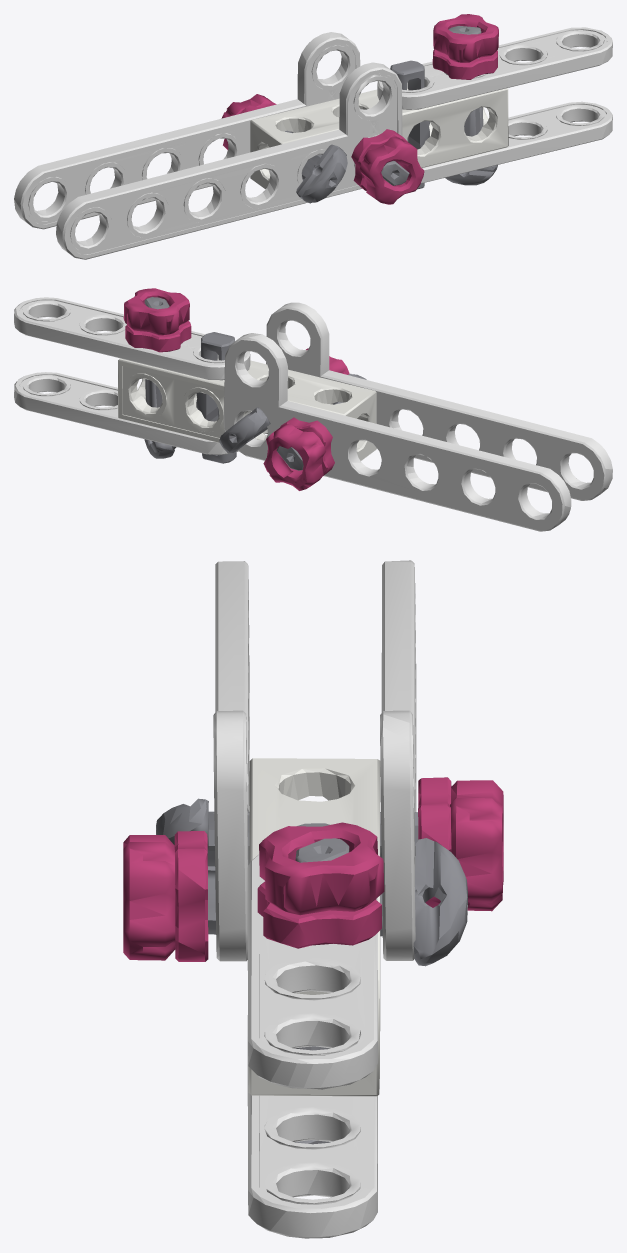
Rendered from Milestone2.fbx.
3 renders of one model, top to bottom at view 1: azimuth 30°, elevation 25°; view 2: azimuth 150°, elevation 25°; view 3: azimuth 270°, elevation 25°, orthographic. The views are drawn at different scales.
Parts seen in each view (by area): view 1: Nut PH CL BU01.00x5mm - SPN-NUT-0018 (stemfie.org).002; view 2: Nut PH CL BU01.00x5mm - SPN-NUT-0018 (stemfie.org).002; view 3: Nut PH CL BU01.00x5mm - SPN-NUT-0018 (stemfie.org).002.
Boxes of the visible parts, x1,y1,x2,y2 form: Nut PH CL BU01.00x5mm - SPN-NUT-0018 (stemfie.org).002: (14,14,612,259); Nut PH CL BU01.00x5mm - SPN-NUT-0018 (stemfie.org).002: (14,288,612,531); Nut PH CL BU01.00x5mm - SPN-NUT-0018 (stemfie.org).002: (123,560,503,1238).
Bounding box in the file's own units: 12559 × 3386 × 3632.
